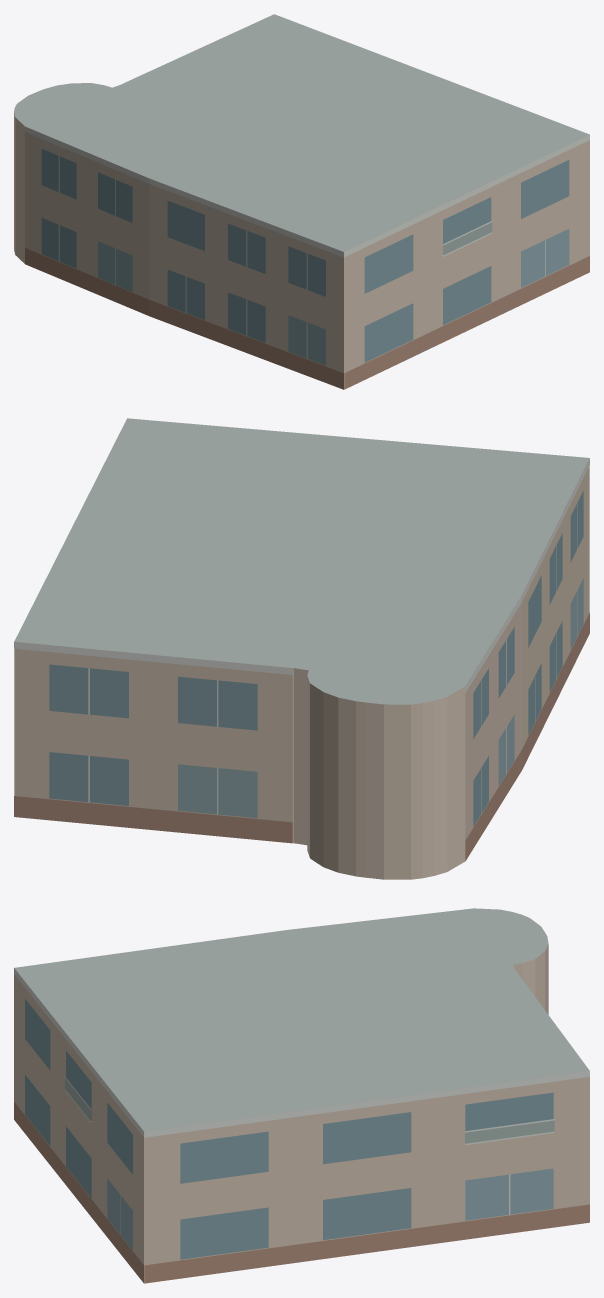
The model's file is survey-upis-32498989.glb.
3 renders of one model, top to bottom at view 1: azimuth 30°, elevation 25°; view 2: azimuth 150°, elevation 25°; view 3: azimuth 270°, elevation 25°, orthographic. The views are drawn at different scales.
Parts seen in each view (by area): view 1: survey-upis-32498989.tmp; view 2: survey-upis-32498989.tmp; view 3: survey-upis-32498989.tmp.
Part boxes in pixels (x1,y1,x2,y2): survey-upis-32498989.tmp: (14, 14, 589, 389); survey-upis-32498989.tmp: (14, 418, 589, 879); survey-upis-32498989.tmp: (14, 908, 589, 1283).
Bounding box in the file's own units: 19.26 × 6.1 × 20.97.
